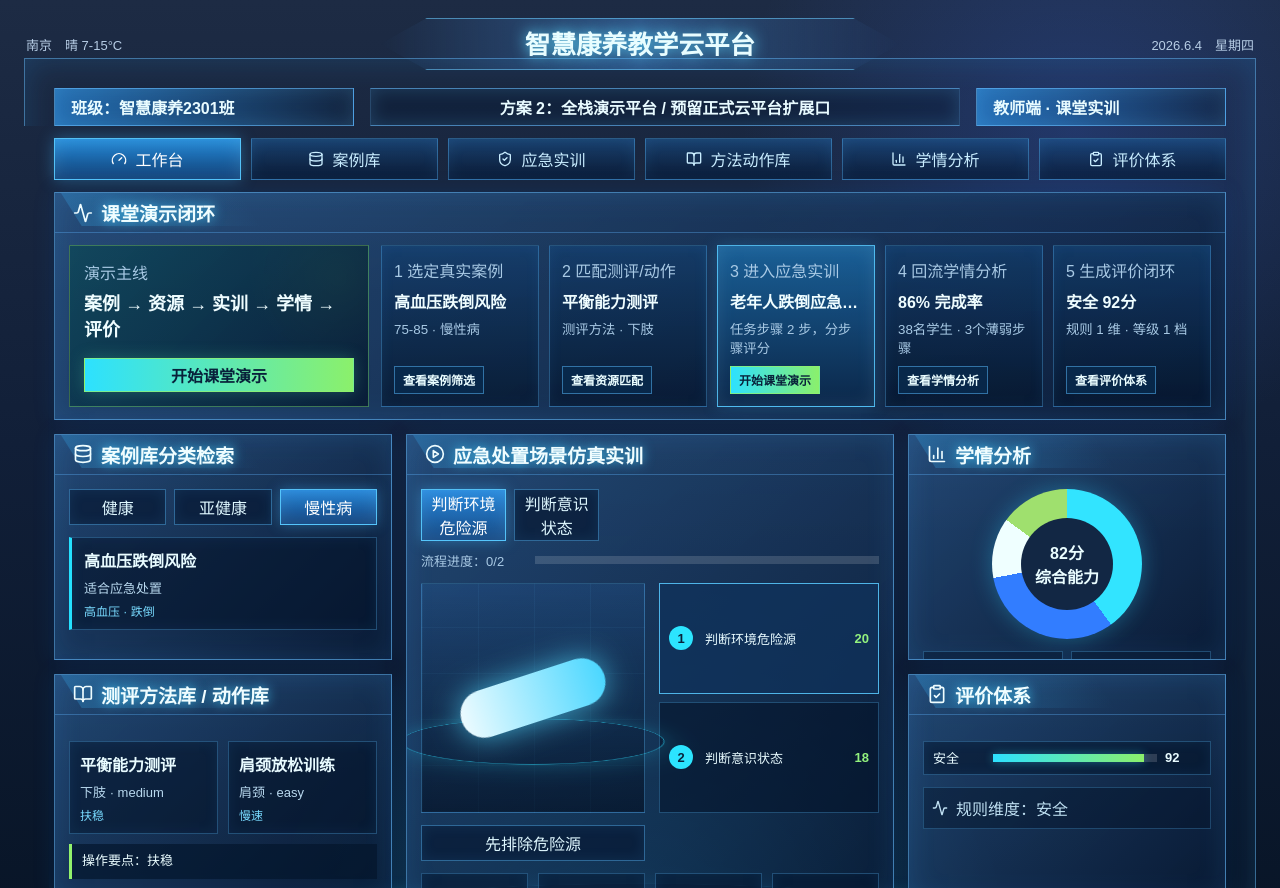
Test: App › submits a fall-response step and displays scoring feedback
Step 1. Click the button "先排除危险源" → (533, 843), box left=421, top=825, right=645, bottom=861
(page scrolled)
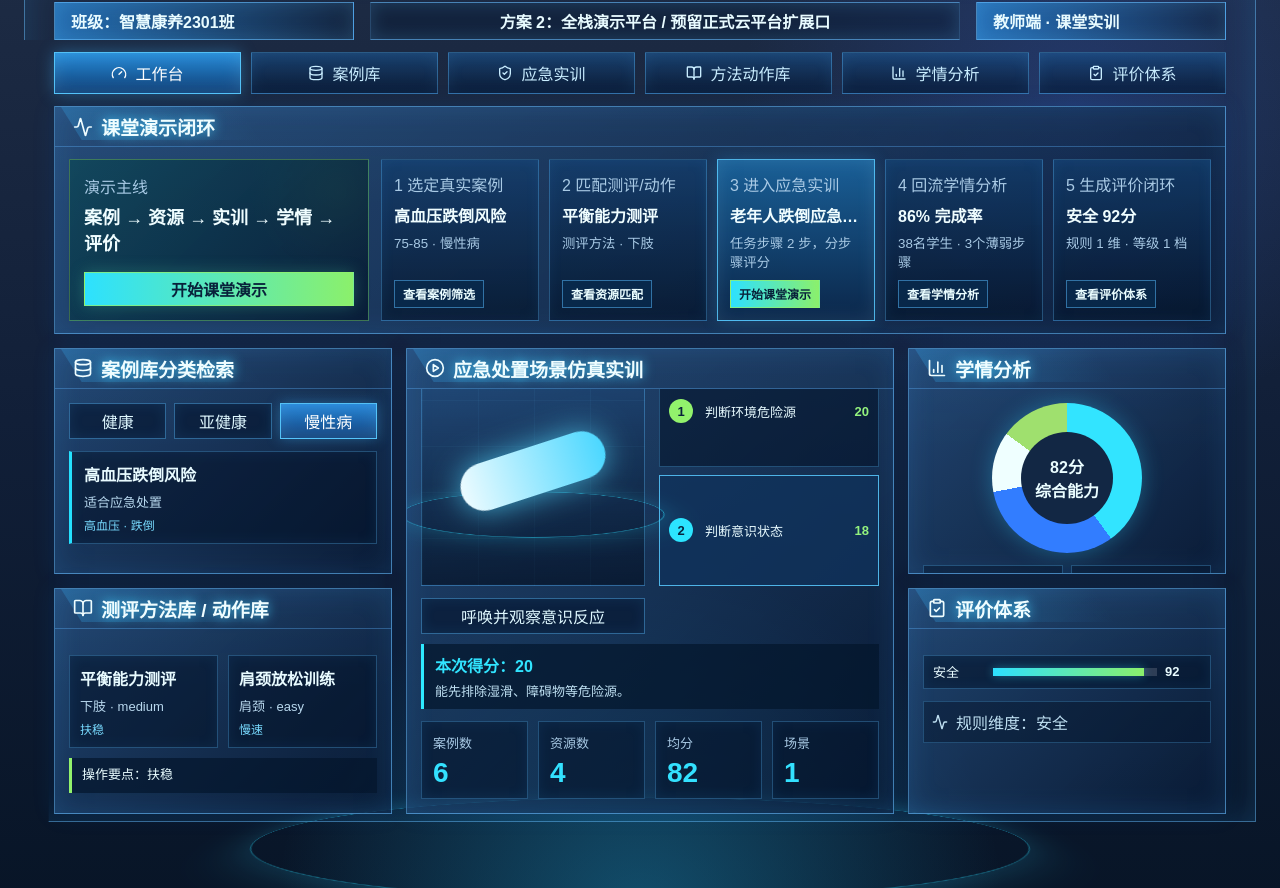
Expected: the text "本次得分：20" is shown, left=435, top=658, right=533, bottom=675
Expected: the text "能先排除湿滑、障碍物等危险源。" is shown, left=435, top=684, right=630, bottom=699
